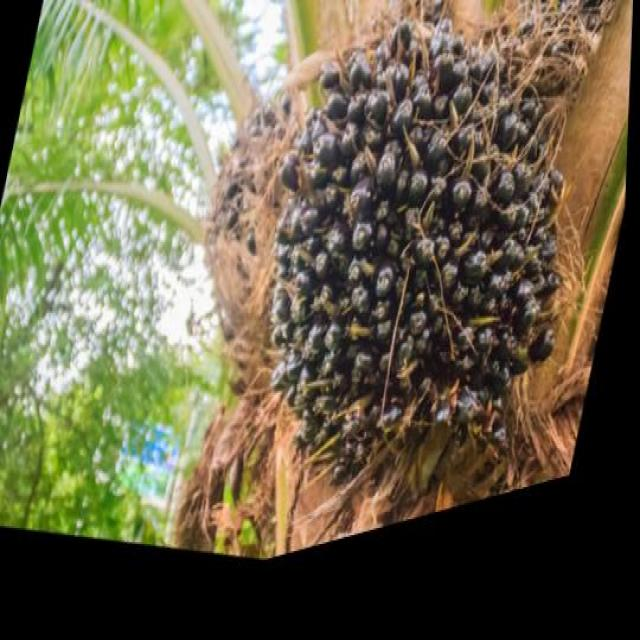Unripe: (214, 0, 625, 588)
